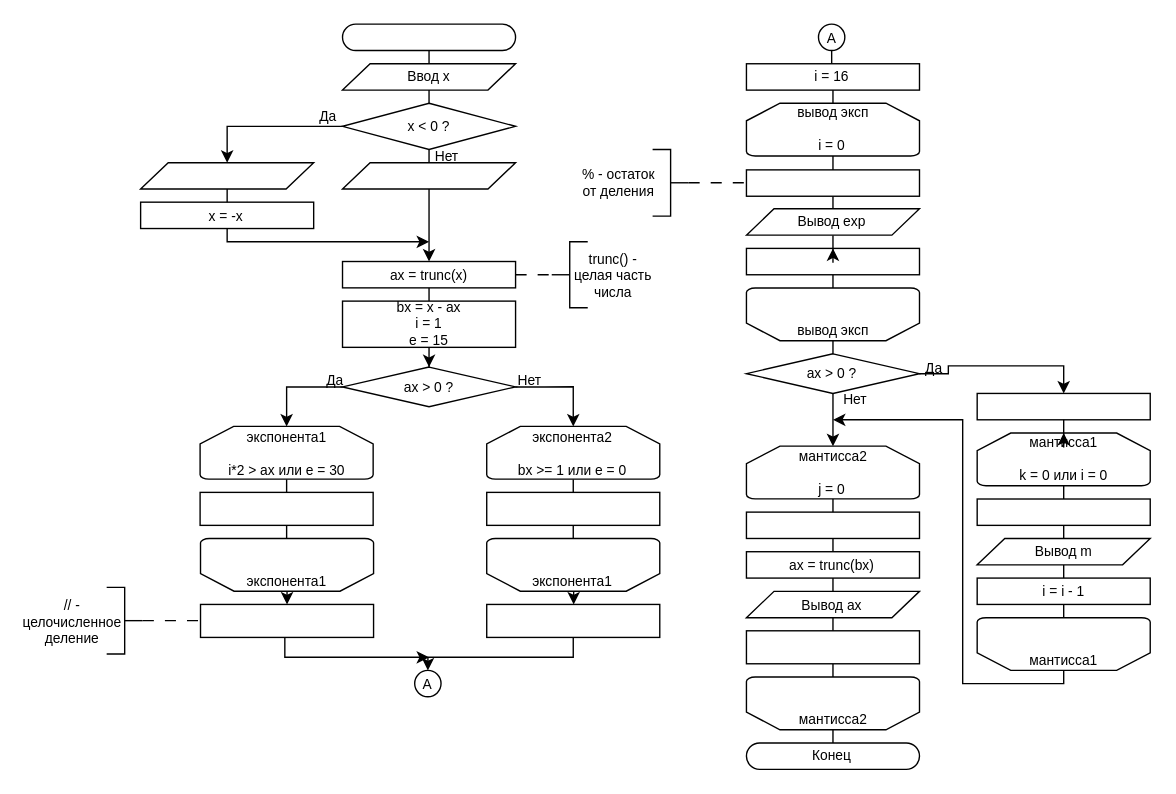
The diagram is 1176 pixels wide and 794 high, and some of its shapes have lost their labels. Each missing label, with the centre of its shape:
"bx = bx * 2" belongs at point 832,524.
"bx = bx - ax j = j - 1" belongs at point 832,646.
"e = e + 1 i = i * 2" belongs at point 286,508.
"e = e - 1 bx = bx * 2" belongs at point 572,508.
"exp = e // i % 2" belongs at point 832,182.
"i = 10" belongs at point 1063,406.
"i = i // 2" belongs at point 832,261.
"j = 10 bx = bx - trunc(bx)" belongs at point 572,620.
"j = 25 - e k = i // 2" belongs at point 286,620.
"m = ax // k % 2" belongs at point 1063,511.
"Вывод 0" belongs at point 428,175.
"Вывод 1" belongs at point 226,175.
"Начало" belongs at point 428,37.
